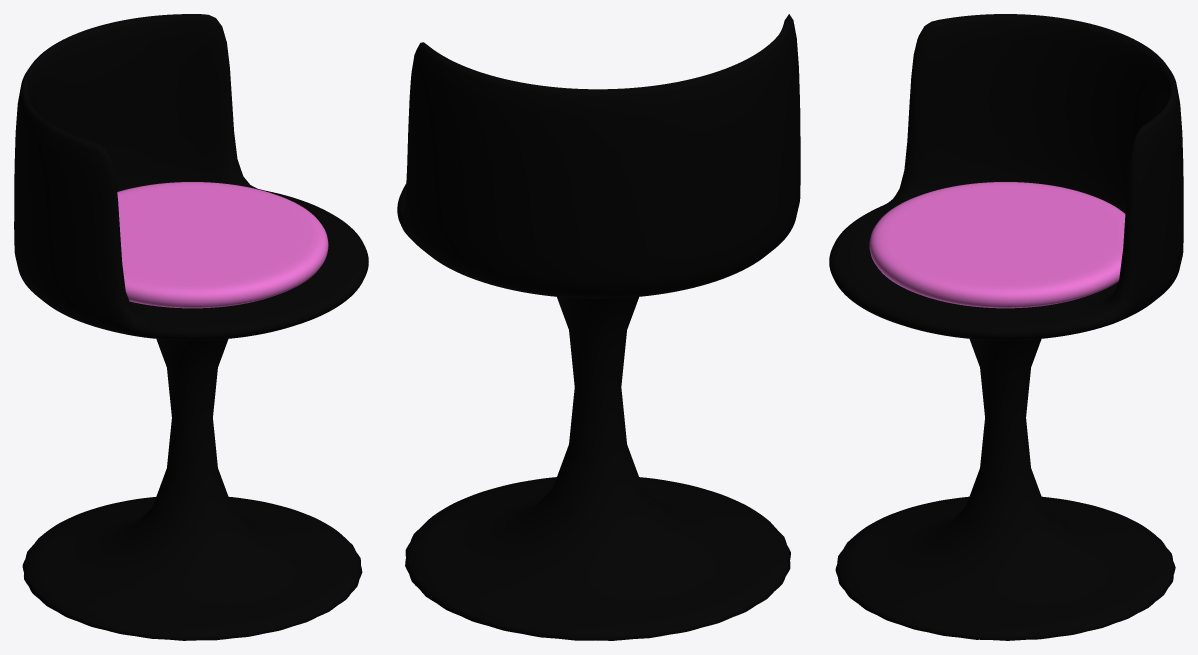
Rendered from Stool.fbx.
3 views of the same model, side by side, from view 1: azimuth 30°, elevation 25°; view 2: azimuth 150°, elevation 25°; view 3: azimuth 270°, elevation 25° (orthographic). The views are drawn at different scales.
Parts seen in each view (by area): view 1: Cylinder.003; view 2: Cylinder.003; view 3: Cylinder.003.
Boxes of the visible parts, x1,y1,x2,y2 form: Cylinder.003: (14,14,368,640); Cylinder.003: (397,14,800,640); Cylinder.003: (829,14,1183,640).
Bounding box in the file's own units: 102 × 157 × 102.
